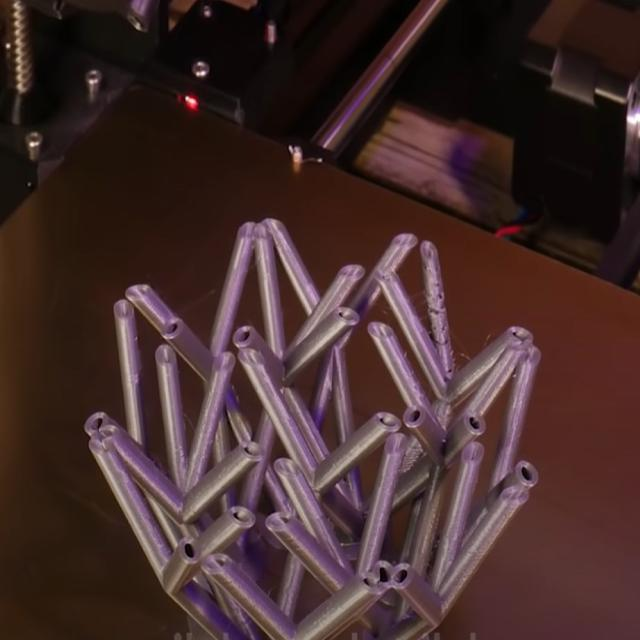Stringing: (401, 281, 434, 337)
